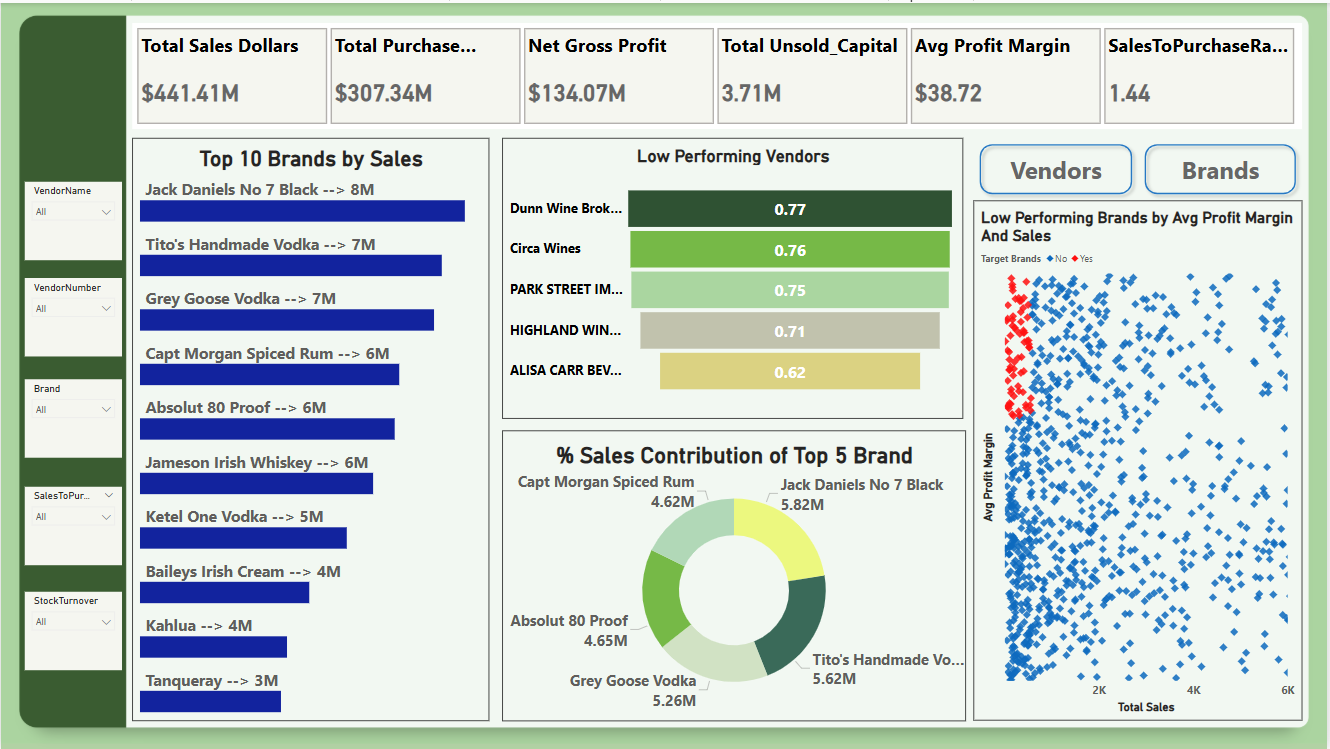

This screenshot's page, from the dashboard's own definition file:
{"tool":"powerbi","page":{"name":"Business Overview","canvas":[1920,1080],"ordinal":0},"visuals":[{"type":"cardVisual","fields":{"Data":["Sum(vendor_sales_summary.TotalSalesDollars)","Sum(vendor_sales_summary.TotalPurchaseDollars)","Sum(vendor_sales_summary.GrossProfit)","Sum(vendor_sales_summary.Unsold_Capital)","Avg(vendor_sales_summary.ProfitMargin)","Measure Table.SalesToPurchaseRatio"]},"box":[190,29,1693.8,153.8],"z":0},{"type":"funnel","title":"Low Performing Vendors","fields":{"Category":["Low turnover Vendors.VendorName"],"Y":["Sum(Low turnover Vendors.AvgStockTurnover)"]},"box":[725.7,196,667.4,406],"z":2000},{"type":"clusteredBarChart","title":"Top 10 Brands by Sales","fields":{"Y":["Measure Table.Dummy Series","Measure Table.Total Sales Vendor"],"Category":["vendor_sales_summary.Description"]},"box":[189.4,195.5,516.6,843.9],"z":4000},{"type":"shape","title":"Brand","box":[1646.8,195.4,237.1,90.5],"z":5000},{"type":"shape","title":"Vendor","box":[1407.9,195.4,238.9,90.5],"z":6000},{"type":"donutChart","title":"% Sales Contribution of Top 5 Brand","fields":{"Category":["vendor_sales_summary.Description"],"Y":["Measure Table.Pct Contribution of Each brand"]},"box":[725.7,618.4,671,421],"z":7000},{"type":"scatterChart","title":"Low Performing Brands by Avg Profit Margin And Sales","fields":{"Category":["BrandPerformance.Description"],"X":["Sum(BrandPerformance.TotalSales)"],"Y":["Avg(BrandPerformance.AvgProfitMargin)"],"Series":["BrandPerformance.Target Brands"]},"box":[1407.9,285.9,475.9,752.8],"z":8000},{"type":"slicer","fields":{"Values":["vendor_sales_summary.VendorName"]},"box":[34.7,258.2,140.7,113.7],"z":9000},{"type":"slicer","fields":{"Values":["vendor_sales_summary.VendorNumber"]},"box":[34.7,398.9,140.7,113.7],"z":10000},{"type":"slicer","fields":{"Values":["vendor_sales_summary.Description"]},"box":[34.7,545.3,140.7,113.7],"z":11000},{"type":"slicer","fields":{"Values":["vendor_sales_summary.SalesToPurchaseRatio"]},"box":[34.7,699.5,140.7,113.7],"z":12000},{"type":"slicer","fields":{"Values":["vendor_sales_summary.StockTurnover"]},"box":[34.7,851.7,140.7,113.7],"z":13000}]}

Visuals, with their boxes in screenshot pixels (x1, y1, x2, y2), scaled from the page's 1920x1080 canvas onto the 1330x749 screenshot:
cardVisual - Sum(vendor_sales_summary.TotalSalesDollars) x Sum(vendor_sales_summary.TotalPurchaseDollars): x1=132, y1=20, x2=1305, y2=127
"Low Performing Vendors" funnel: x1=503, y1=136, x2=965, y2=417
"Top 10 Brands by Sales" clusteredBarChart: x1=131, y1=136, x2=489, y2=721
"Brand" shape: x1=1141, y1=136, x2=1305, y2=198
"Vendor" shape: x1=975, y1=136, x2=1141, y2=198
"% Sales Contribution of Top 5 Brand" donutChart: x1=503, y1=429, x2=968, y2=721
"Low Performing Brands by Avg Profit Margin And Sales" scatterChart: x1=975, y1=198, x2=1305, y2=720
slicer - vendor_sales_summary.VendorName: x1=24, y1=179, x2=122, y2=258
slicer - vendor_sales_summary.VendorNumber: x1=24, y1=277, x2=122, y2=355
slicer - vendor_sales_summary.Description: x1=24, y1=378, x2=122, y2=457
slicer - vendor_sales_summary.SalesToPurchaseRatio: x1=24, y1=485, x2=122, y2=564
slicer - vendor_sales_summary.StockTurnover: x1=24, y1=591, x2=122, y2=670
